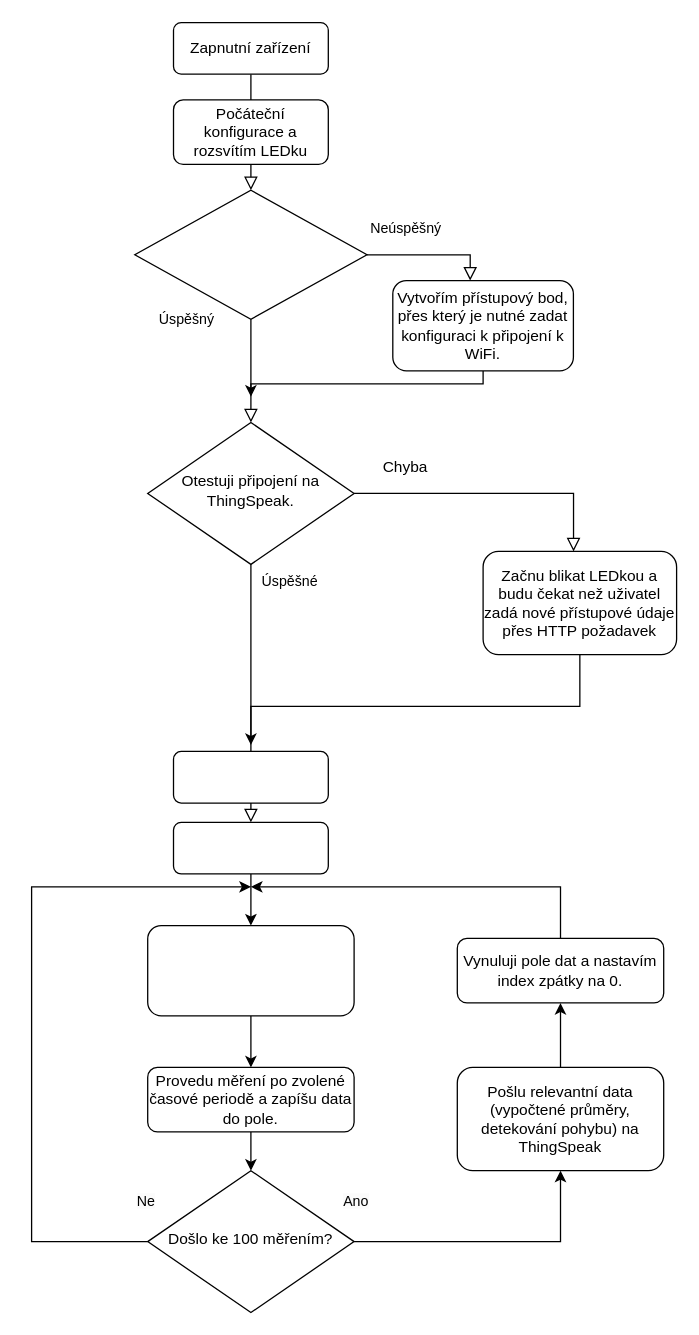
This 699x1335 diagram has some shape labels left out. The shapes that lost their labels are listed below. From the top down, each one's centre as x and y in pixels, then its label:
point (250, 254): Pokus připojení k WiFi síťi.
point (250, 776): Zhasnu LEDku
point (250, 847): Spustím měřící smyčku.
point (250, 970): Reaguji na uživatelské vstupy (HTTP požadavky, zmáčknutí tlačítka).
